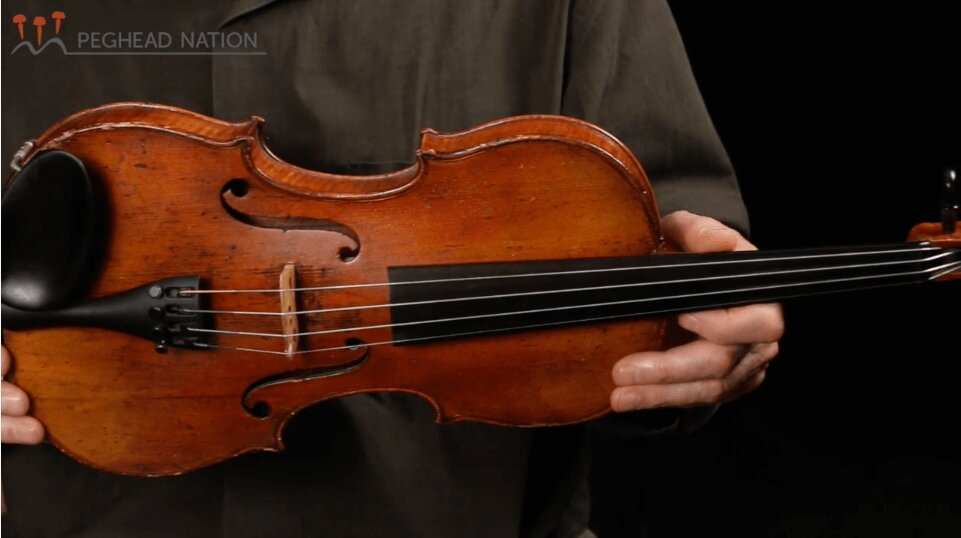Fiddle: (13, 94, 957, 431)
